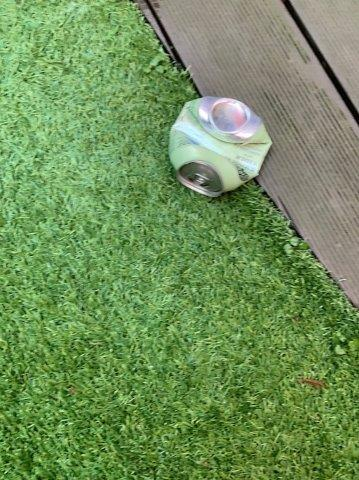kaleng: (168, 95, 272, 195)
